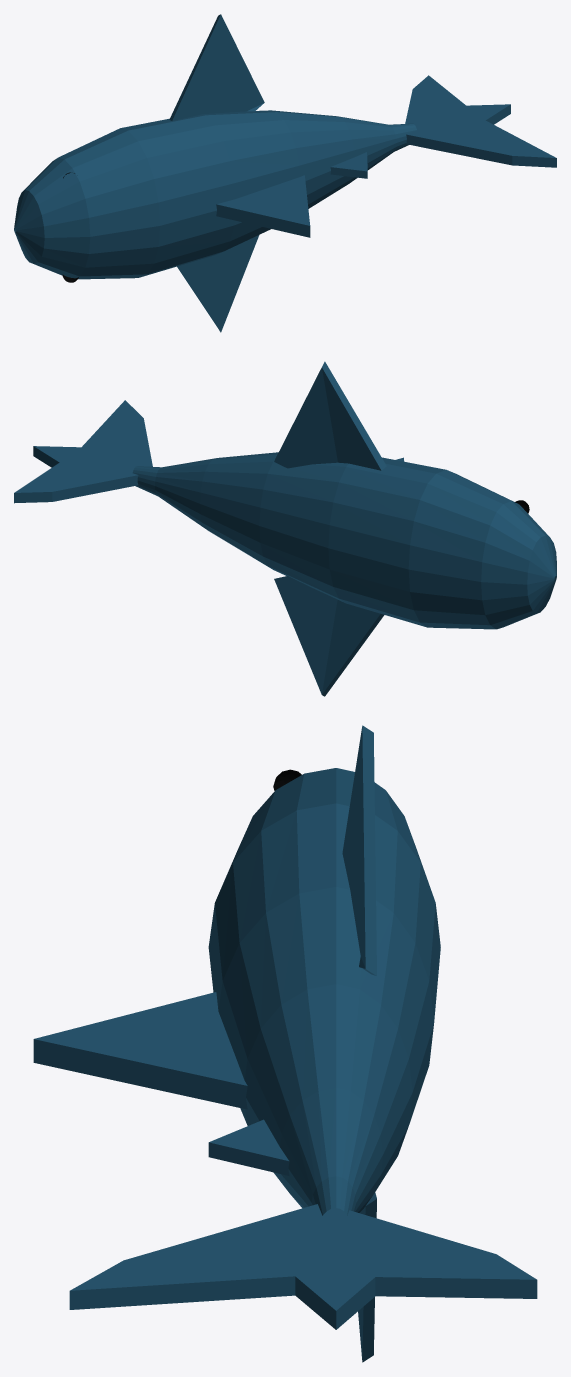
The model's file is shark_model.obj.
The picture shows the model from 3 angles, top to bottom: view 1: azimuth 30°, elevation 25°; view 2: azimuth 150°, elevation 25°; view 3: azimuth 270°, elevation 25°; orthographic projection. The views are drawn at different scales.
Visible parts, largest first — view 1: Shark; view 2: Shark; view 3: Shark.
Part boxes in pixels (x1,y1,x2,y2): Shark: (14, 14, 556, 332); Shark: (14, 361, 556, 696); Shark: (33, 725, 537, 1362).
Bounding box in the file's own units: 7 × 4.3 × 3.08.
